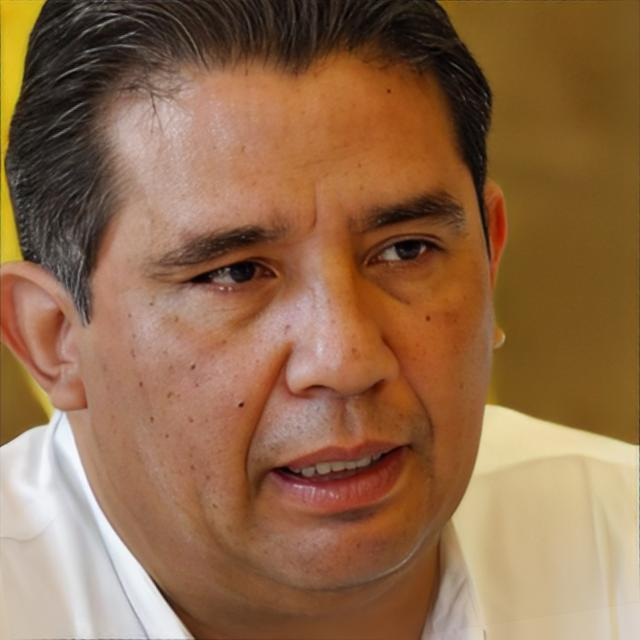neutral: (83, 41, 500, 609)
